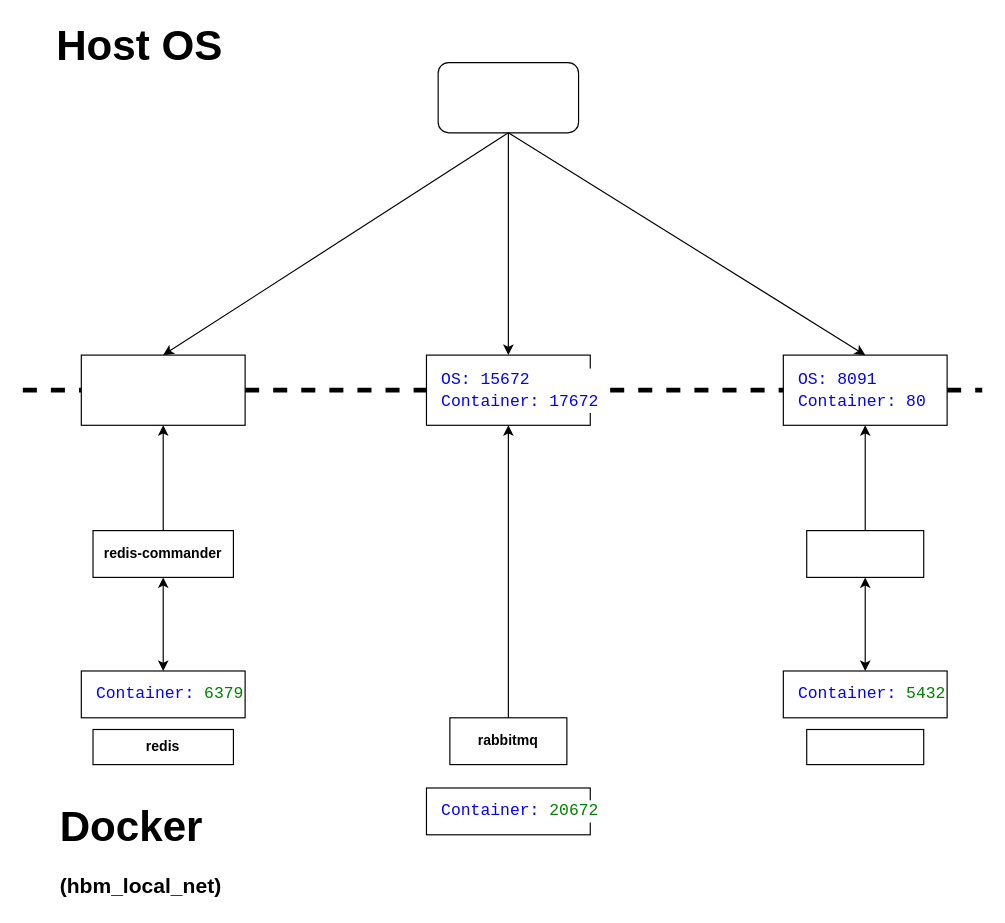
Some shapes in this 1005 by 923 pixel diagram are drawn without their labels. Each missing label, with the centre of its shape:
Client Browser: point (508, 97)
OS: 8090 Container: 8081: point (162, 389)
pgadmin: point (865, 553)
postgres-db: point (865, 746)
